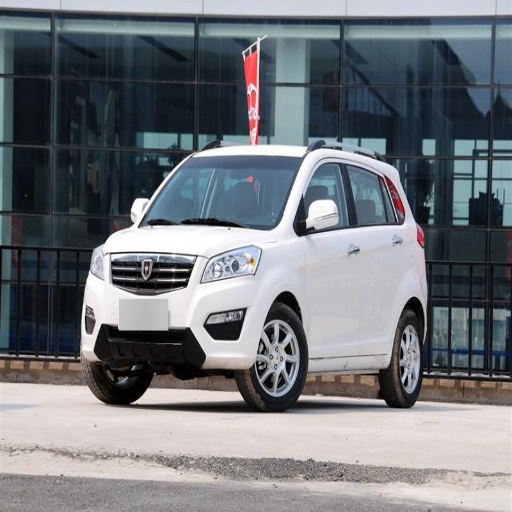front_bumper: (85, 250, 269, 370)
front_glass: (141, 157, 303, 227)
front_left_door: (296, 157, 362, 358)
